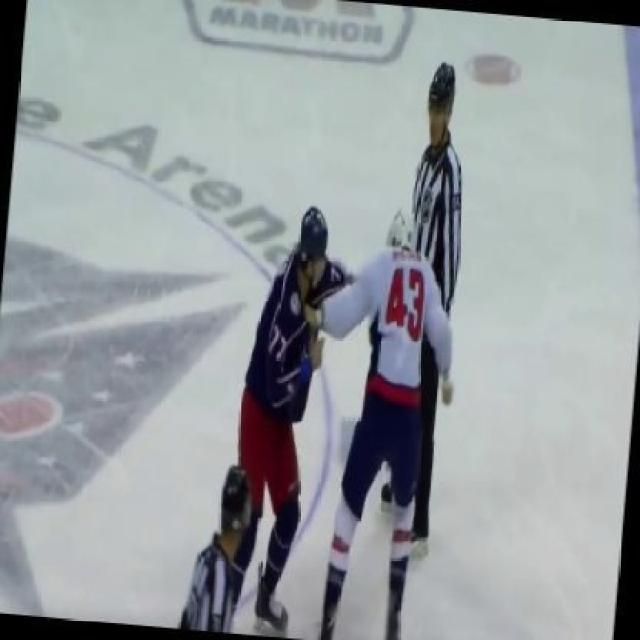fight: (224, 204, 441, 640)
non-fight: (412, 63, 462, 558)
